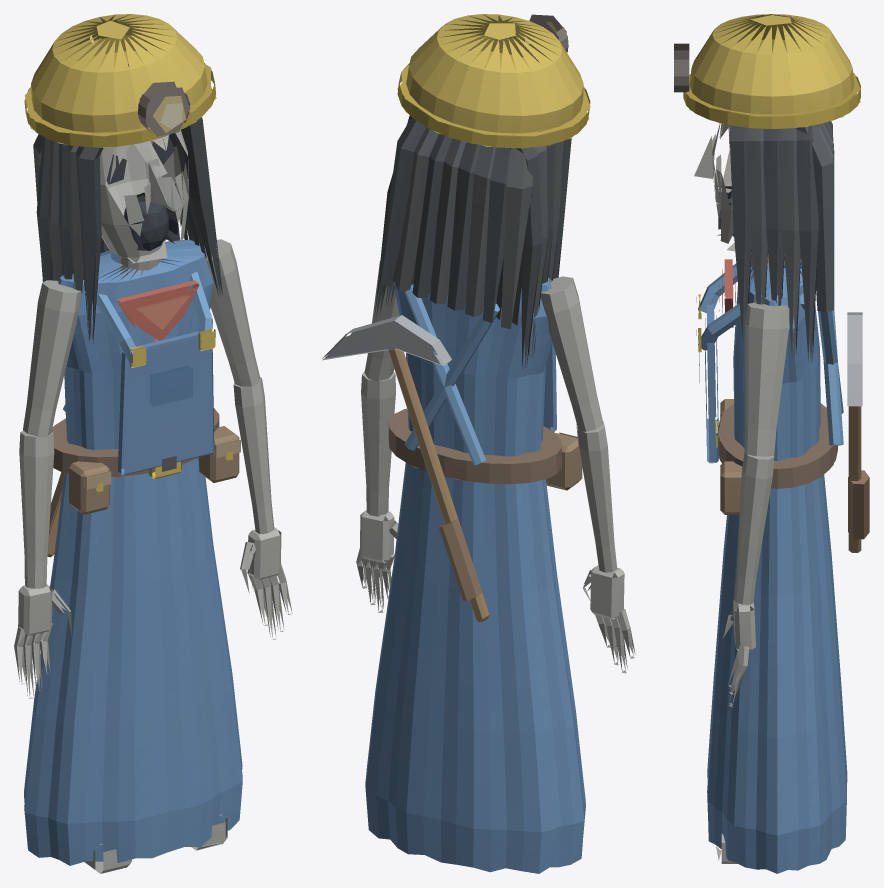
The model's file is SlendrinaMiner.glb.
The picture shows the model from 3 angles, left to right: view 1: azimuth 30°, elevation 25°; view 2: azimuth 150°, elevation 25°; view 3: azimuth 270°, elevation 25°; orthographic projection. The views are drawn at different scales.
Parts seen in each view (by area): view 1: Body, Head, ArmR, ArmL, LegR; view 2: Body, Head, ArmR, ArmL; view 3: Body, Head, ArmL.
Part boxes in pixels (bbox=[...]): Body: bbox=[24, 240, 242, 865]; Head: bbox=[24, 14, 222, 343]; ArmR: bbox=[14, 280, 81, 698]; ArmL: bbox=[206, 239, 292, 639]; LegR: bbox=[84, 844, 131, 873]; Body: bbox=[322, 277, 585, 873]; Head: bbox=[374, 14, 590, 369]; ArmR: bbox=[540, 276, 635, 673]; ArmL: bbox=[356, 261, 399, 612]; Body: bbox=[696, 252, 869, 873]; Head: bbox=[674, 14, 860, 363]; ArmL: bbox=[722, 302, 789, 707].
Bounding box in the file's own units: 2.44 × 7.02 × 1.62.
